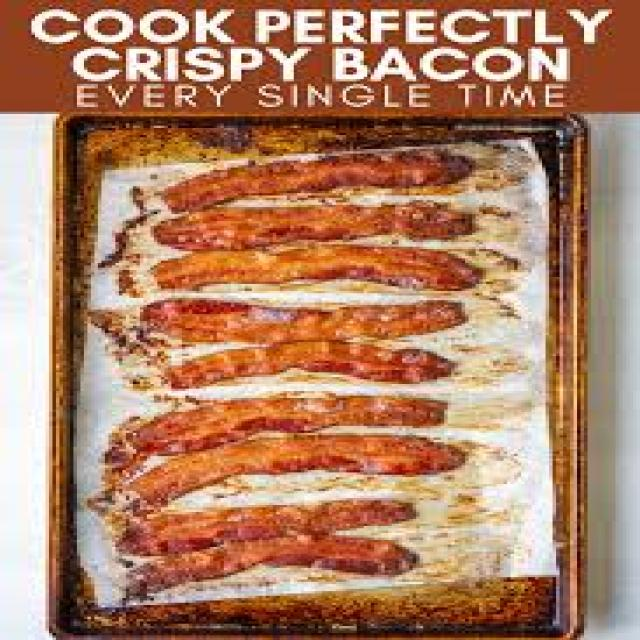Bacon: (122, 435, 464, 504), (113, 395, 447, 464), (163, 150, 473, 211), (128, 535, 415, 594), (120, 500, 415, 554), (143, 299, 466, 343), (152, 247, 479, 289), (171, 341, 455, 388), (154, 205, 409, 249)
